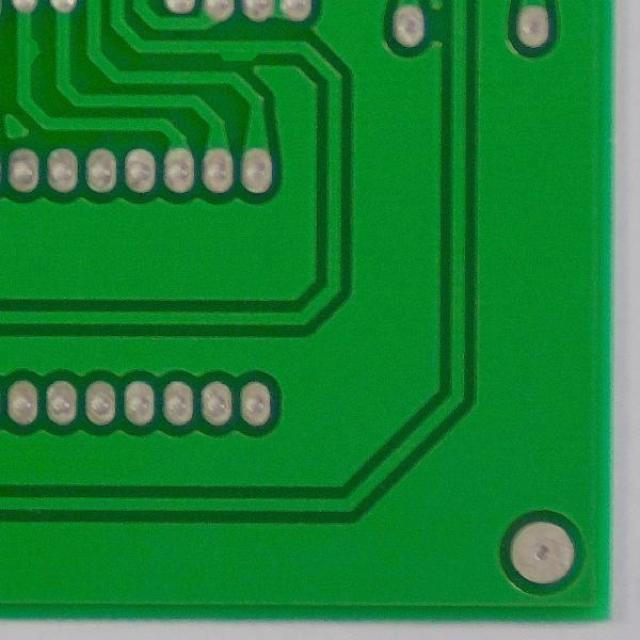spur: (211, 31, 264, 68), (10, 32, 47, 70)
